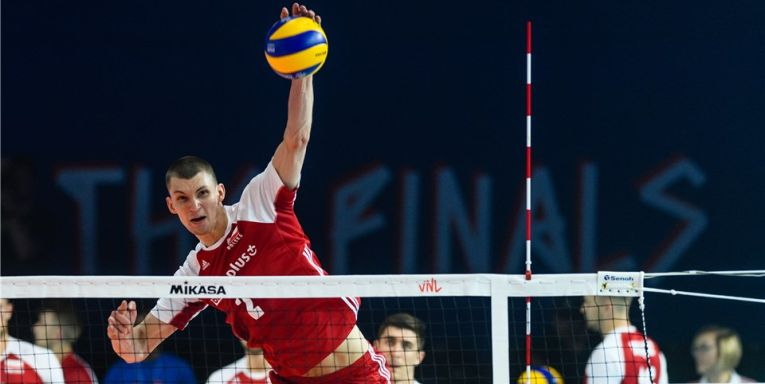ball: (264, 16, 328, 80)
